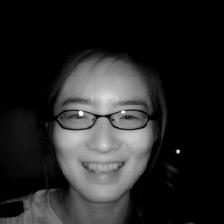happy: (35, 38, 170, 207)
